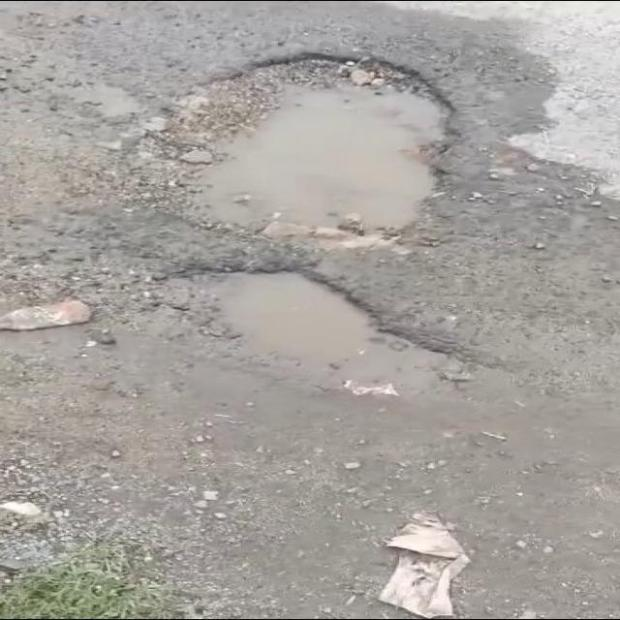lubang: (138, 56, 449, 241), (161, 274, 473, 399)
